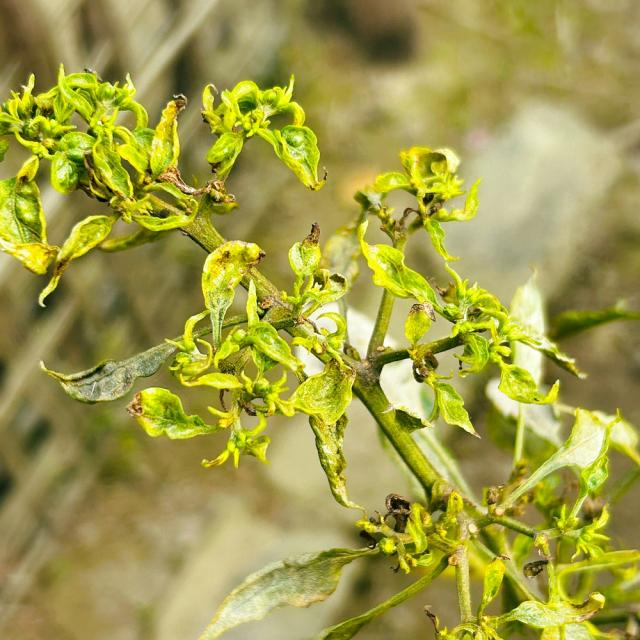Chilli_Leaf_Curl: (1, 62, 638, 638), (199, 73, 328, 193), (37, 338, 181, 404)
